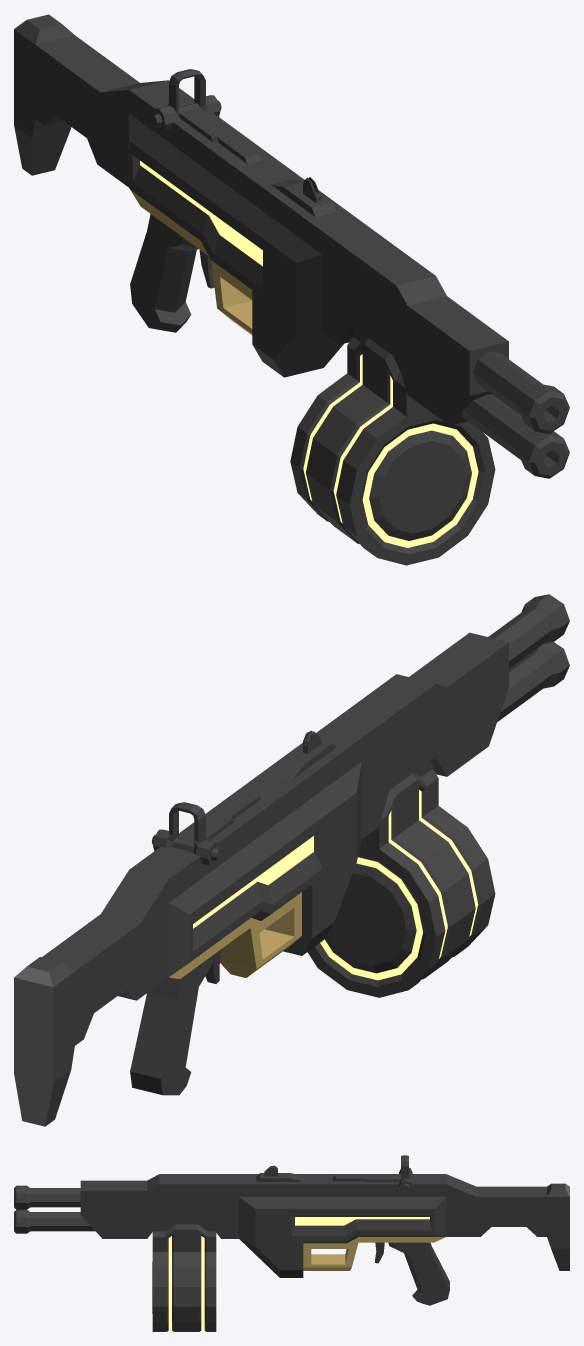
The model's file is Suppressor.fbx.
The picture shows the model from 3 angles, top to bottom: view 1: azimuth 30°, elevation 25°; view 2: azimuth 150°, elevation 25°; view 3: azimuth 270°, elevation 25°; orthographic projection. The views are drawn at different scales.
Parts seen in each view (by area): view 1: Suppressor; view 2: Suppressor; view 3: Suppressor.
Boxes of the visible parts, x1=… form: Suppressor: x1=14, y1=14, x2=569, y2=565; Suppressor: x1=14, y1=594, x2=569, y2=1126; Suppressor: x1=14, y1=1155, x2=569, y2=1331.
Size of the model in its own units: 143 by 298 by 880.
